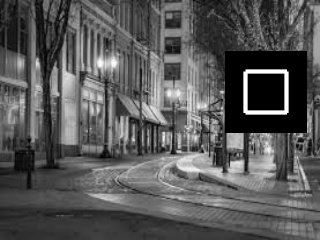square: (225, 51, 307, 133)
